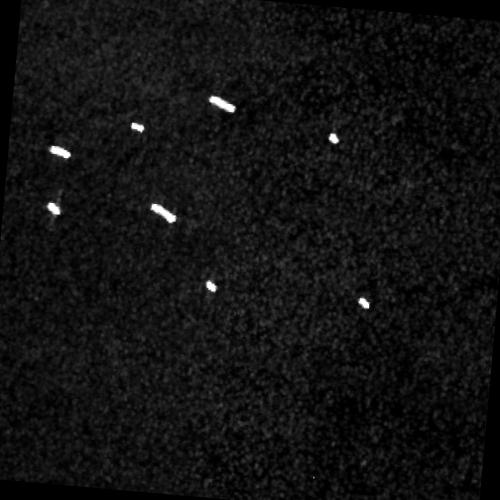ship: (149, 201, 177, 225), (208, 95, 236, 113), (49, 144, 72, 160), (46, 201, 60, 217), (129, 120, 145, 133), (204, 279, 218, 293), (326, 131, 339, 144), (357, 296, 370, 309)
